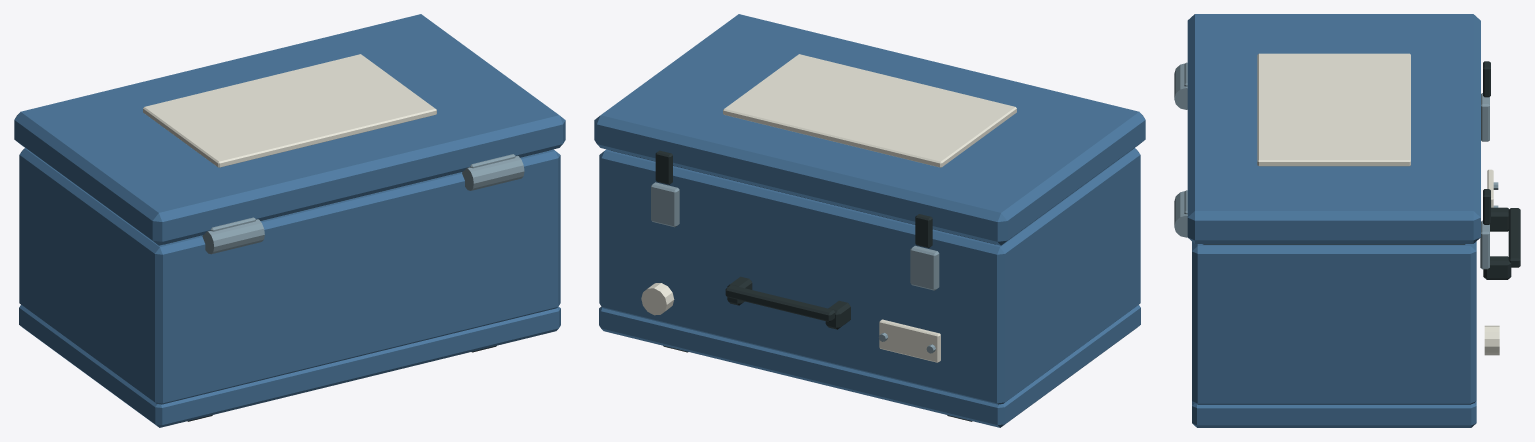
The model's file is insulated_seafood_chest.glb.
3 views of the same model, side by side, from view 1: azimuth 30°, elevation 25°; view 2: azimuth 150°, elevation 25°; view 3: azimuth 270°, elevation 25° (orthographic).
Parts seen in each view (by area): view 1: body_back_wall, moving_lid, body_side_wall (×2), moving_lid_identity, body_floor, body_hinge (×2), body_front_wall; view 2: body_front_wall, moving_lid, body_side_wall (×2), moving_lid_identity, body_floor, latch_base (×2), cold_wave_plate, front_carry_grip, body_back_wall, moving_latch_hook (×2), drain_plug; view 3: moving_lid, body_side_wall, moving_lid_identity, body_floor, body_front_wall, body_back_wall, body_hinge (×2), front_carry_mount (×2), latch_base (×2), front_carry_grip, drain_plug.
Boxes of the visible parts, x1,y1,x2,y2 form: body_back_wall: [146, 150, 558, 404]; moving_lid: [14, 14, 565, 245]; body_side_wall (×2): [19, 148, 560, 404]; moving_lid_identity: [143, 54, 436, 167]; body_floor: [19, 305, 560, 427]; body_hinge (×2): [202, 155, 524, 254]; body_front_wall: [19, 148, 33, 309]; body_front_wall: [601, 150, 1013, 403]; moving_lid: [594, 14, 1145, 245]; body_side_wall (×2): [599, 148, 1140, 404]; moving_lid_identity: [723, 54, 1016, 167]; body_floor: [599, 305, 1140, 427]; latch_base (×2): [651, 182, 939, 290]; cold_wave_plate: [879, 319, 940, 362]; front_carry_grip: [725, 285, 835, 321]; body_back_wall: [1126, 148, 1140, 309]; moving_latch_hook (×2): [655, 150, 932, 247]; drain_plug: [641, 283, 674, 315]; moving_lid: [1187, 14, 1480, 243]; body_side_wall: [1192, 243, 1476, 404]; moving_lid_identity: [1257, 53, 1410, 166]; body_floor: [1192, 401, 1476, 427]; body_front_wall: [1453, 241, 1476, 404]; body_back_wall: [1192, 242, 1215, 404]; body_hinge (×2): [1174, 63, 1187, 237]; front_carry_mount (×2): [1483, 207, 1511, 279]; latch_base (×2): [1480, 93, 1489, 269]; front_carry_grip: [1508, 208, 1520, 267]; drain_plug: [1484, 325, 1499, 355].
Size of the model in its own units: 1.38 by 0.7635 by 0.9985.
